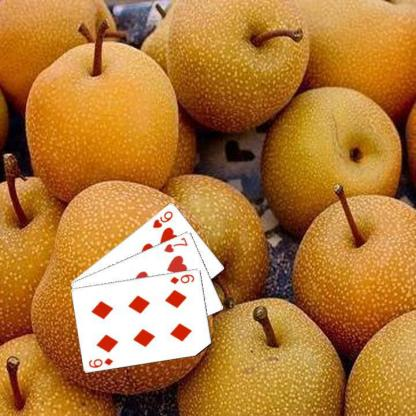6D: (167, 271, 196, 285), (86, 355, 114, 369)
7H: (161, 235, 189, 254)
9H: (150, 208, 174, 229)
